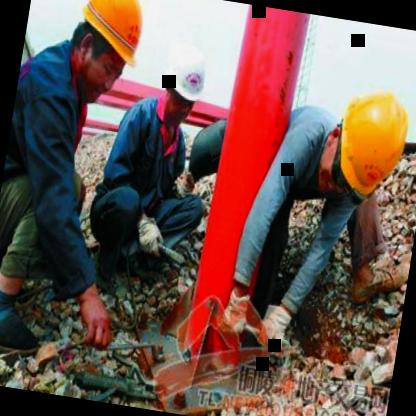helmet: (318, 71, 416, 210), (58, 0, 156, 115), (158, 39, 212, 128)
